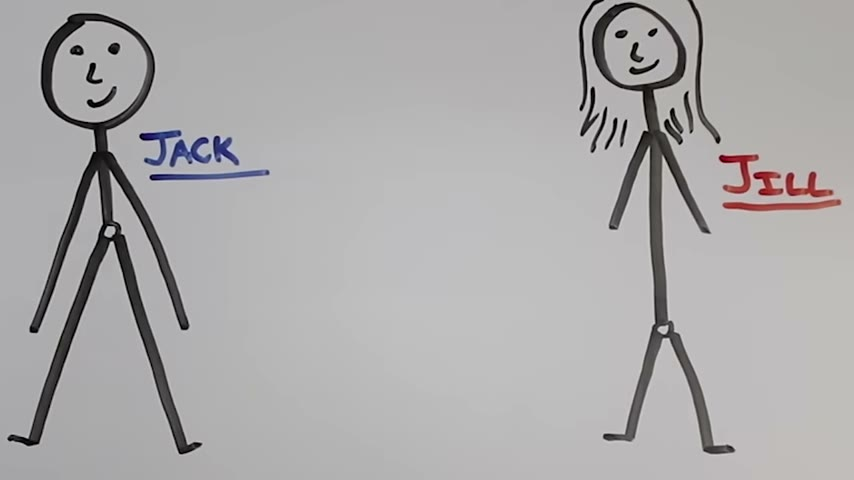barbell_plate_side: (34, 10, 80, 139), (659, 1, 692, 127), (125, 9, 157, 134), (578, 0, 608, 128)
